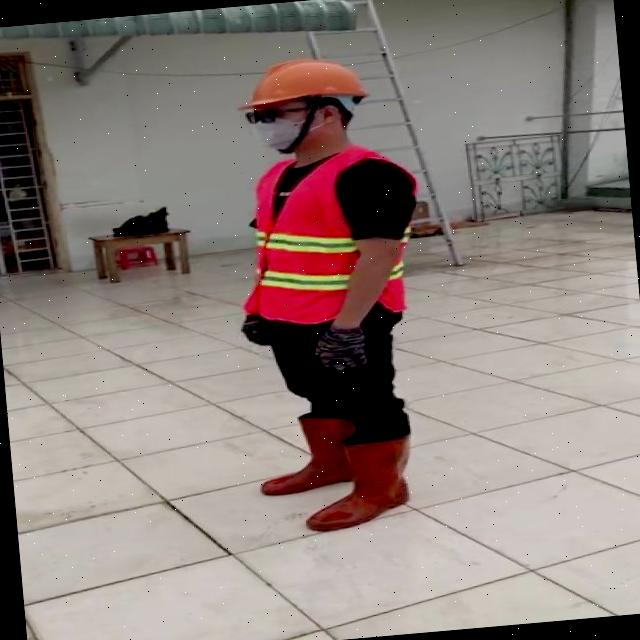boots: (298, 431, 438, 535), (252, 402, 376, 499)
